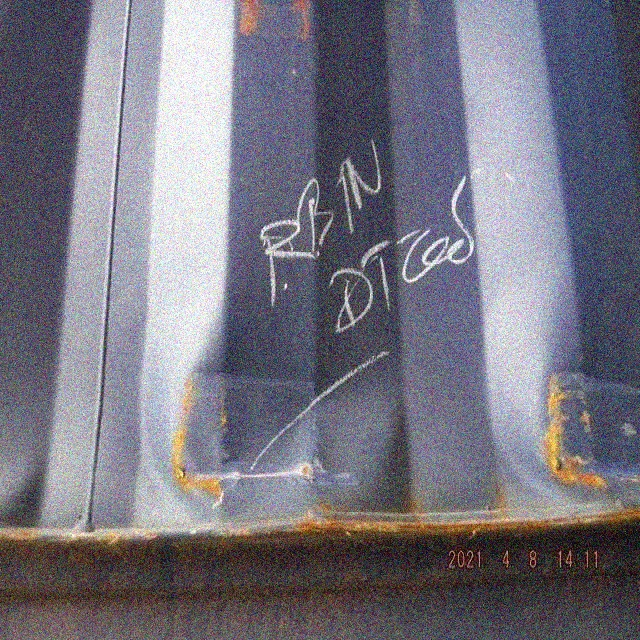Dent: (128, 268, 424, 520)
Hole: (553, 457, 567, 477)
